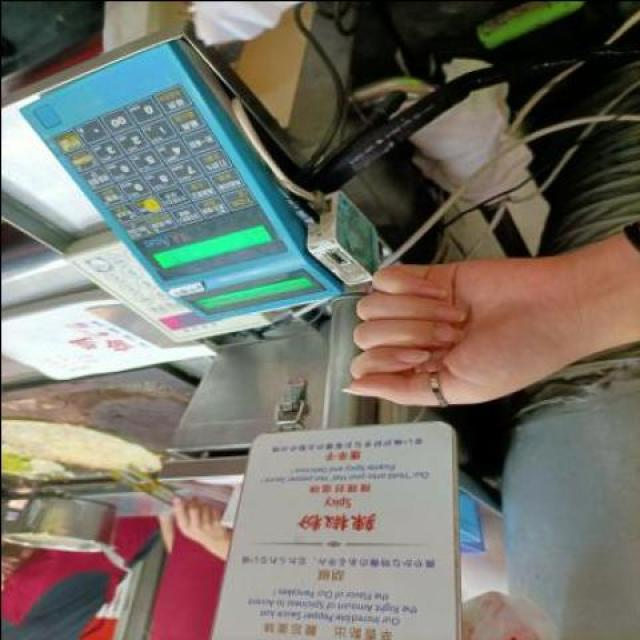Closed Hand: (338, 231, 566, 413)
